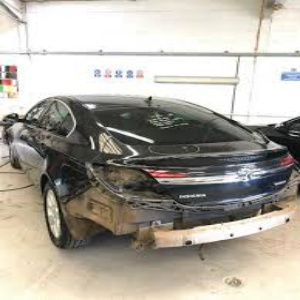bumper: (74, 163, 184, 254)
